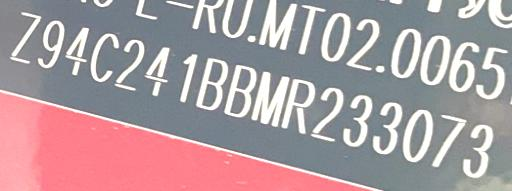letter: (248, 68, 294, 127), (428, 111, 470, 170), (280, 76, 320, 137), (308, 86, 346, 145), (192, 56, 232, 111), (7, 8, 45, 65), (339, 93, 377, 148), (220, 63, 258, 118), (370, 99, 406, 156), (460, 123, 496, 180), (402, 106, 436, 164), (112, 37, 146, 95), (142, 43, 174, 96), (88, 30, 120, 82), (172, 49, 200, 104), (37, 18, 67, 69), (64, 24, 90, 77)
